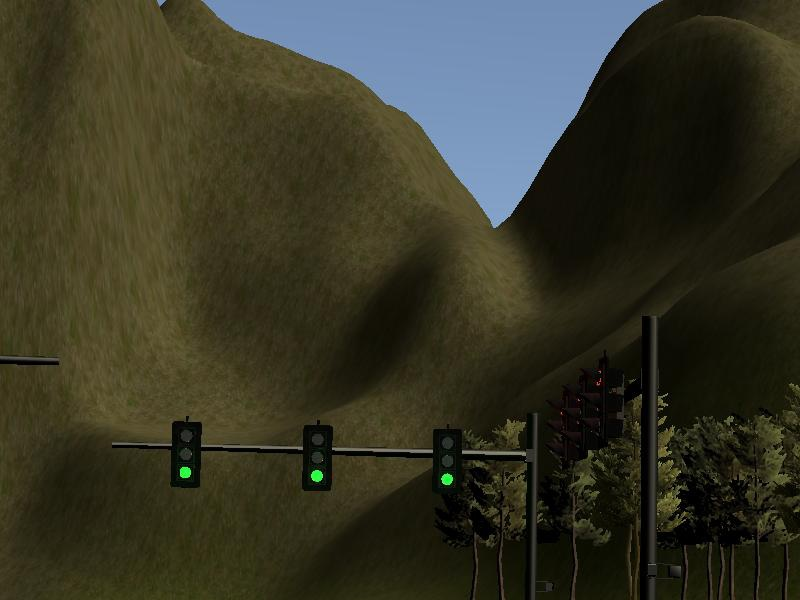Green: (303, 425, 332, 489)
